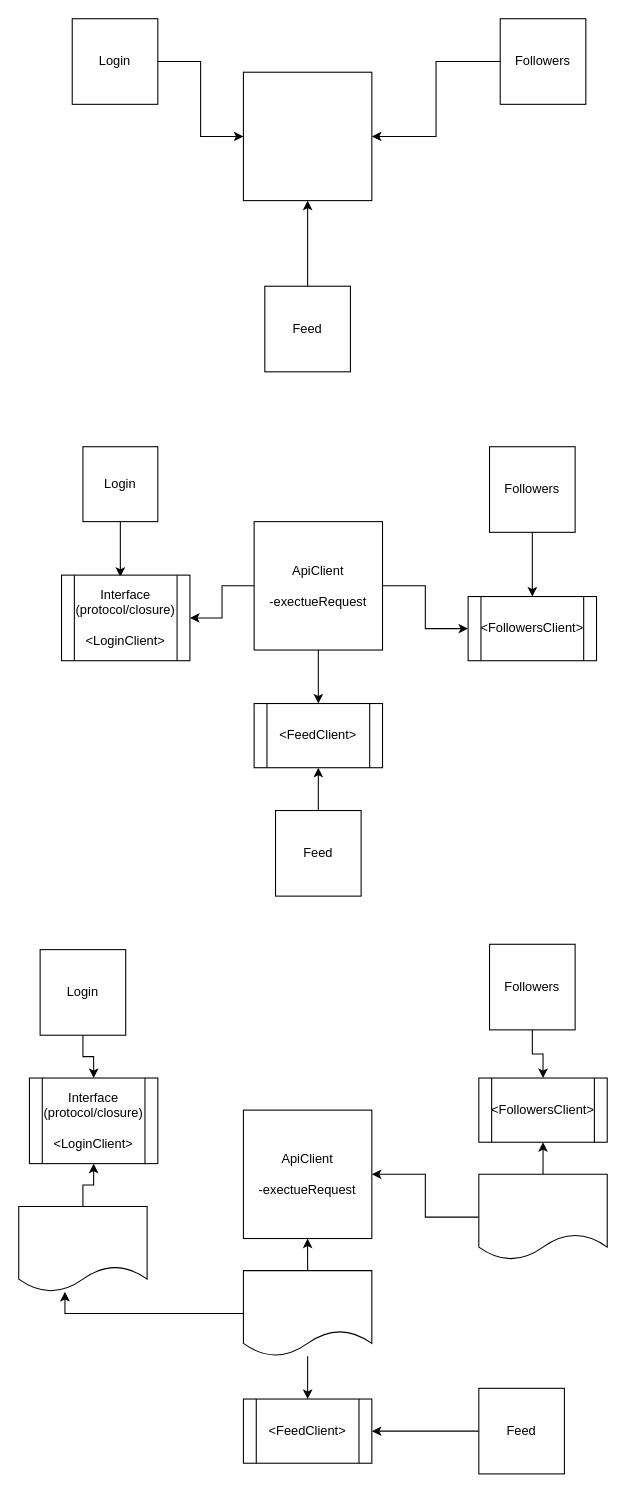
The diagram is 626 pixels wide and 1493 high, and some of its shapes have lost their labels. The centre of each missing label's shape, as x and y in pixels:
"ApiClient -login() -loadFeed() -loadFollowers()" belongs at [307,136].
"FeedClientAdapter" belongs at [307,1313].
"FollowersAdapter" belongs at [542,1216].
"LoginClientAdapter" belongs at [82,1248].
